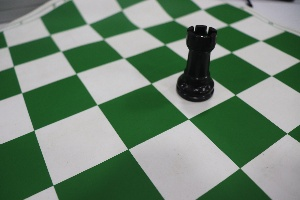black_rook: (171, 10, 223, 109)
